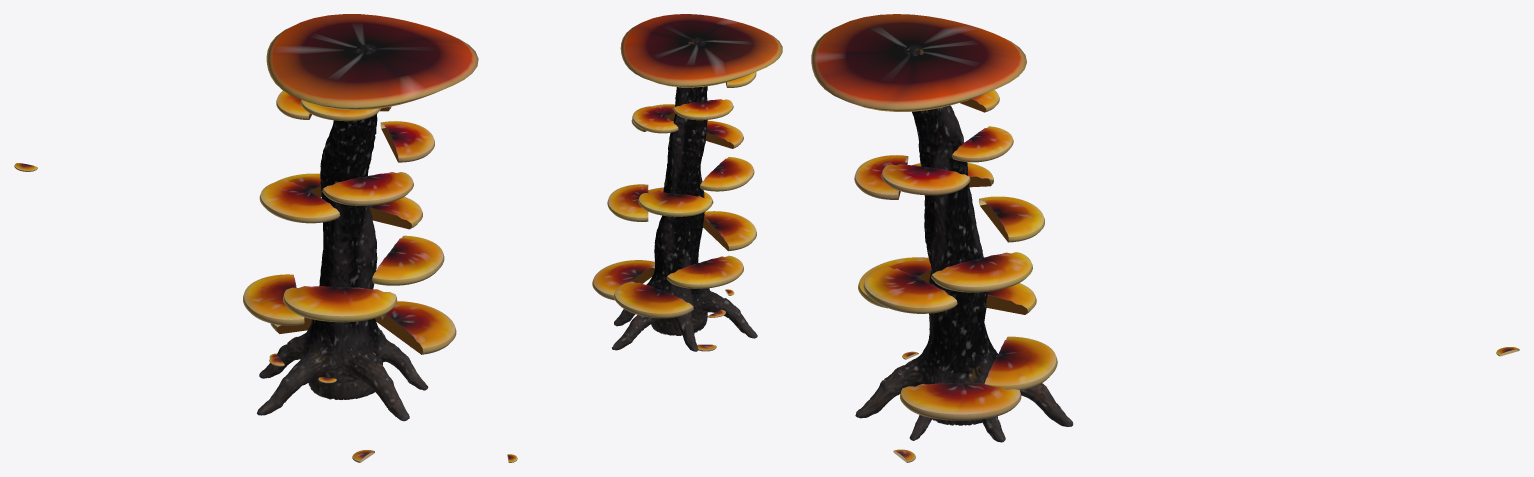
The model's file is agac_lingzhi.glb.
3 views of the same model, side by side, from view 1: azimuth 30°, elevation 25°; view 2: azimuth 150°, elevation 25°; view 3: azimuth 270°, elevation 25° (orthographic). The views are drawn at different scales.
Visible parts, largest first — view 1: agac_lingzhi_LOD0; view 2: agac_lingzhi_LOD0; view 3: agac_lingzhi_LOD0.
Part boxes in pixels (left/top/right/bottom): agac_lingzhi_LOD0: left=14, top=14, right=478, bottom=462; agac_lingzhi_LOD0: left=507, top=14, right=782, bottom=462; agac_lingzhi_LOD0: left=811, top=14, right=1519, bottom=462.
Size of what is drawn, in the model's own units: 5.27 by 10.35 by 16.08.
Materials: 2 (1 with a texture image).
